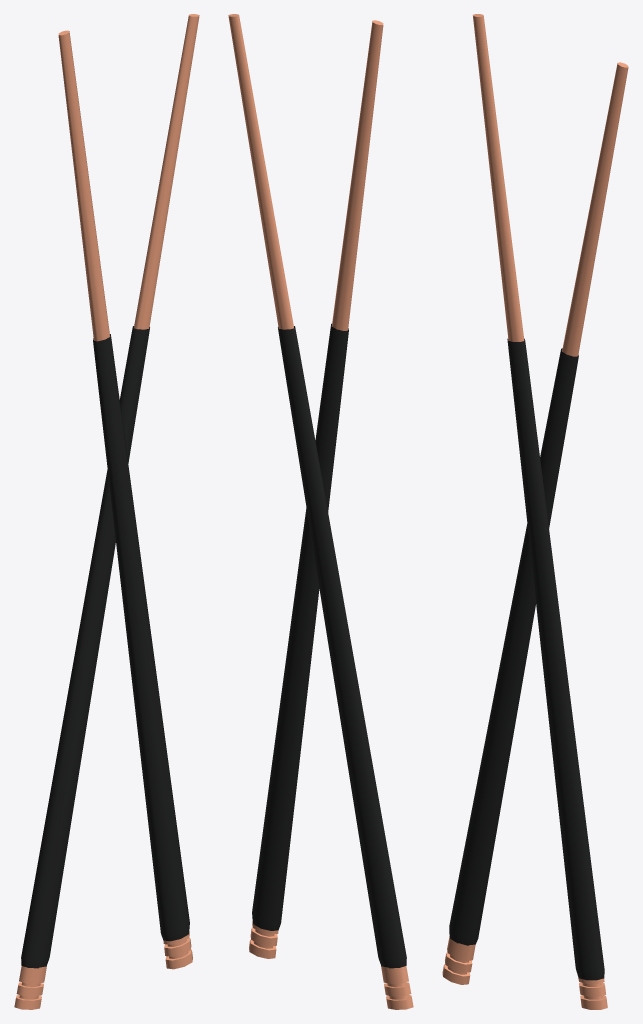
File: chopsticks_crossed.glb
The picture shows the model from 3 angles, left to right: view 1: azimuth 30°, elevation 25°; view 2: azimuth 150°, elevation 25°; view 3: azimuth 330°, elevation 25°; orthographic projection.
Parts seen in each view (by area): view 1: chopsticks crossed; view 2: chopsticks crossed; view 3: chopsticks crossed.
Boxes of the visible parts, bbox=[...] form: chopsticks crossed: bbox=[14, 14, 199, 1009]; chopsticks crossed: bbox=[228, 14, 413, 1009]; chopsticks crossed: bbox=[442, 14, 628, 1009].
Bounding box in the file's own units: 1.11 × 5.56 × 0.1773.
1 material, 1 textured.
